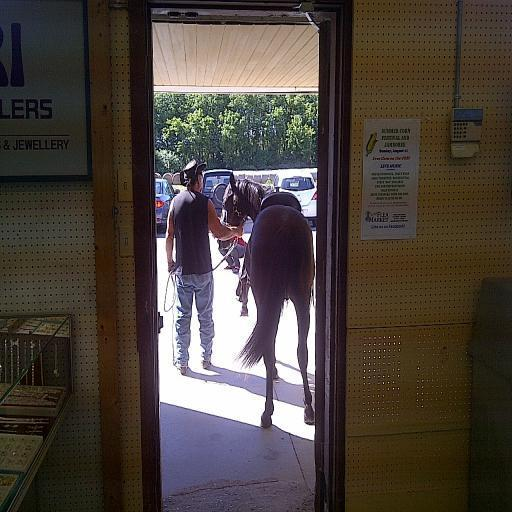horse: (218, 170, 316, 428)
